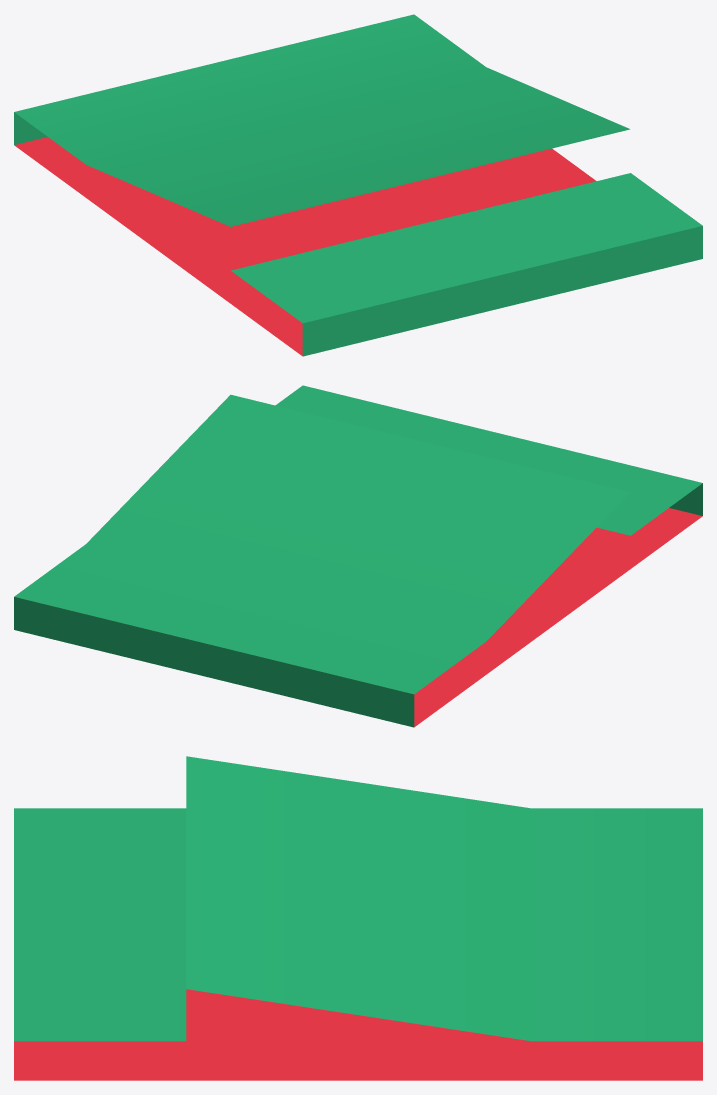
File: RampSharp (Grass).fbx
3 views of the same model, one above another, from view 1: azimuth 30°, elevation 25°; view 2: azimuth 150°, elevation 25°; view 3: azimuth 270°, elevation 25° (orthographic). The views are drawn at different scales.
Parts seen in each view (by area): view 1: rampSharp001; view 2: rampSharp001; view 3: rampSharp001.
Boxes of the visible parts, box(x1,y1,x2,y2) form: rampSharp001: box(14, 14, 702, 356); rampSharp001: box(14, 385, 702, 727); rampSharp001: box(14, 756, 702, 1080).
Size of the model in its own units: 31.49 by 5.77 by 39.37.
